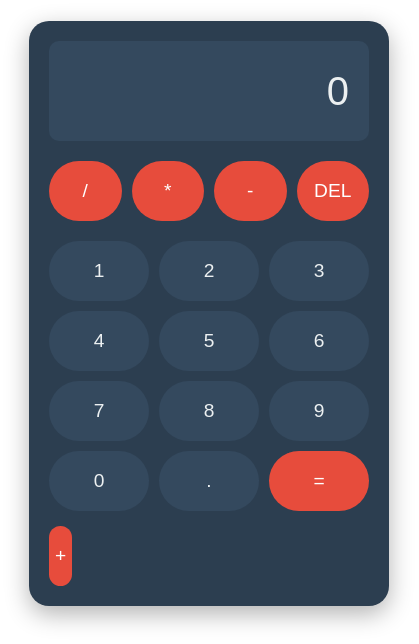
Test case: can input decimal numbers
This screenshot has width=419, height=644.
Step 1. Click the button "3" → (319, 271), box x1=269 y1=241 x2=369 y2=301
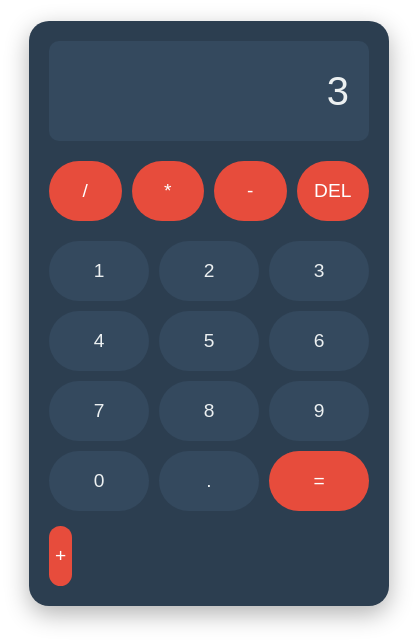
Step 2. Click the button "." → (209, 481), box x1=159 y1=451 x2=259 y2=511
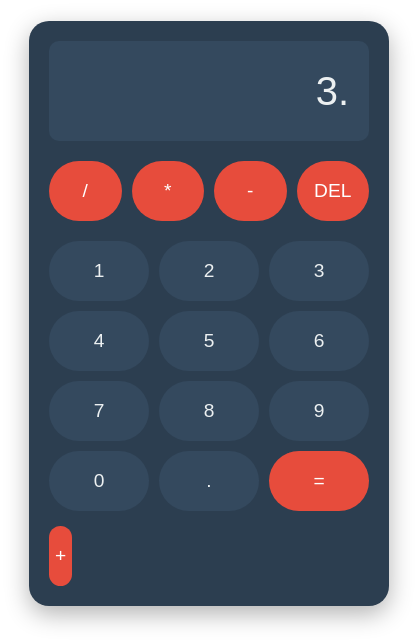
Step 3. Click the button "1" → (99, 271), box x1=49 y1=241 x2=149 y2=301
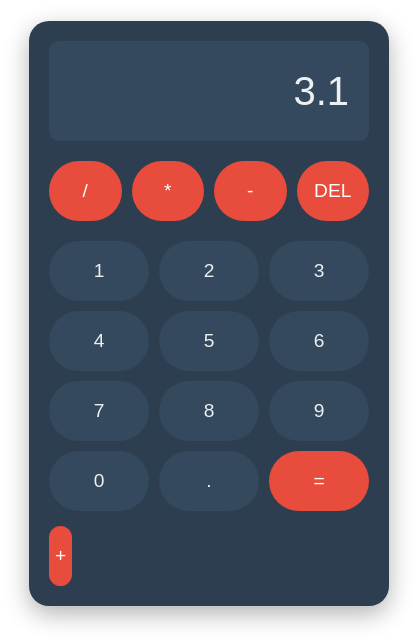
Step 4. Click the button "4" → (99, 341), box x1=49 y1=311 x2=149 y2=371
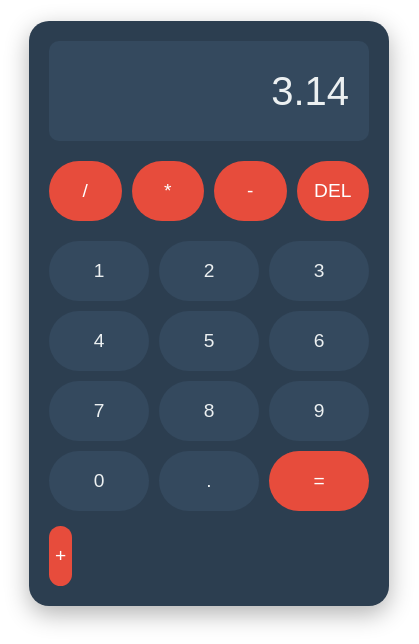
Now the text "3.14" is shown, box x1=271 y1=68 x2=349 y2=112
